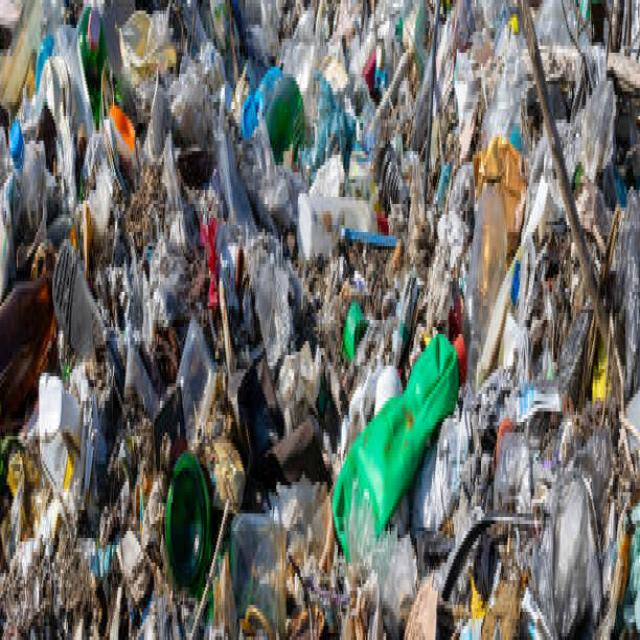glass: (157, 440, 208, 587), (1, 250, 55, 372)
plastic: (270, 327, 521, 528)
